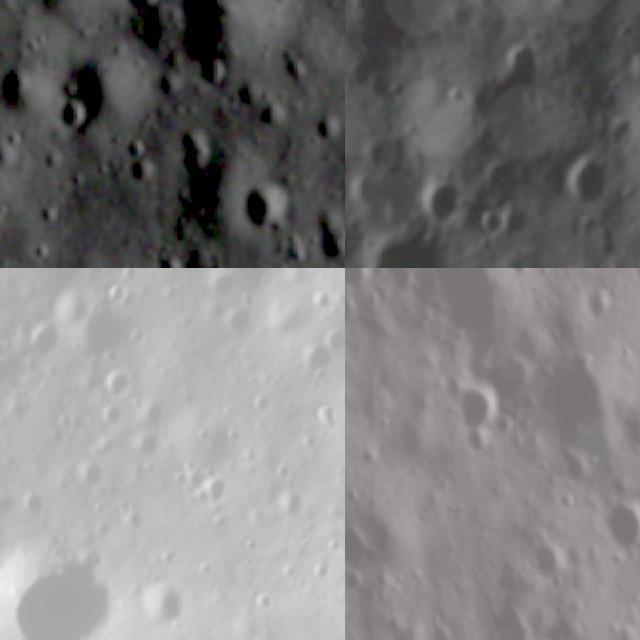crater: (521, 357, 626, 470), (0, 541, 114, 640), (458, 30, 552, 149), (412, 268, 509, 362), (233, 170, 299, 235), (444, 387, 509, 452), (593, 487, 640, 559), (138, 570, 192, 632), (408, 175, 464, 233), (560, 153, 614, 213), (48, 90, 98, 140), (18, 320, 68, 369), (190, 473, 237, 516), (300, 346, 340, 396), (217, 302, 258, 346), (127, 424, 165, 468), (474, 205, 511, 248), (97, 362, 141, 398), (270, 488, 311, 524), (103, 0, 179, 18), (345, 268, 379, 300), (95, 406, 126, 437), (624, 50, 640, 97)
